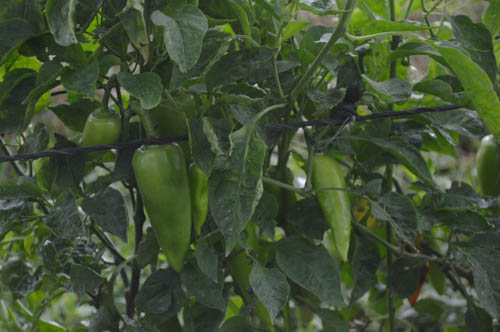ChiliPepper: (132, 146, 191, 269), (306, 155, 352, 259), (72, 115, 123, 156), (188, 165, 210, 238)
